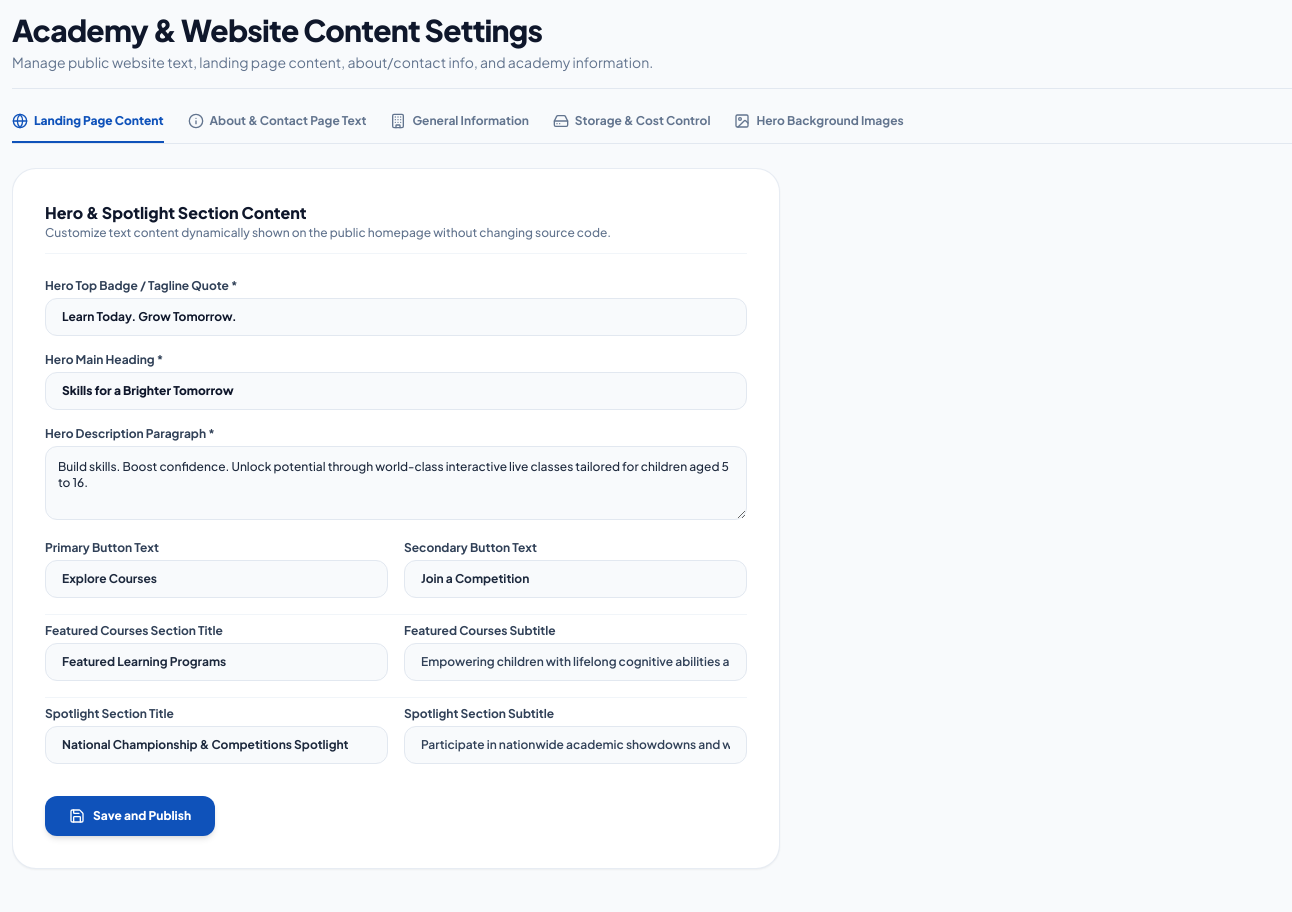
Test: AdminSettingsPage - Storage & Cost Control (Part C) › renders Storage & Cost Control tab and displays metrics
Click the button "Storage & Cost Control": (632, 128) top-left (553, 113), bottom-right (710, 143)
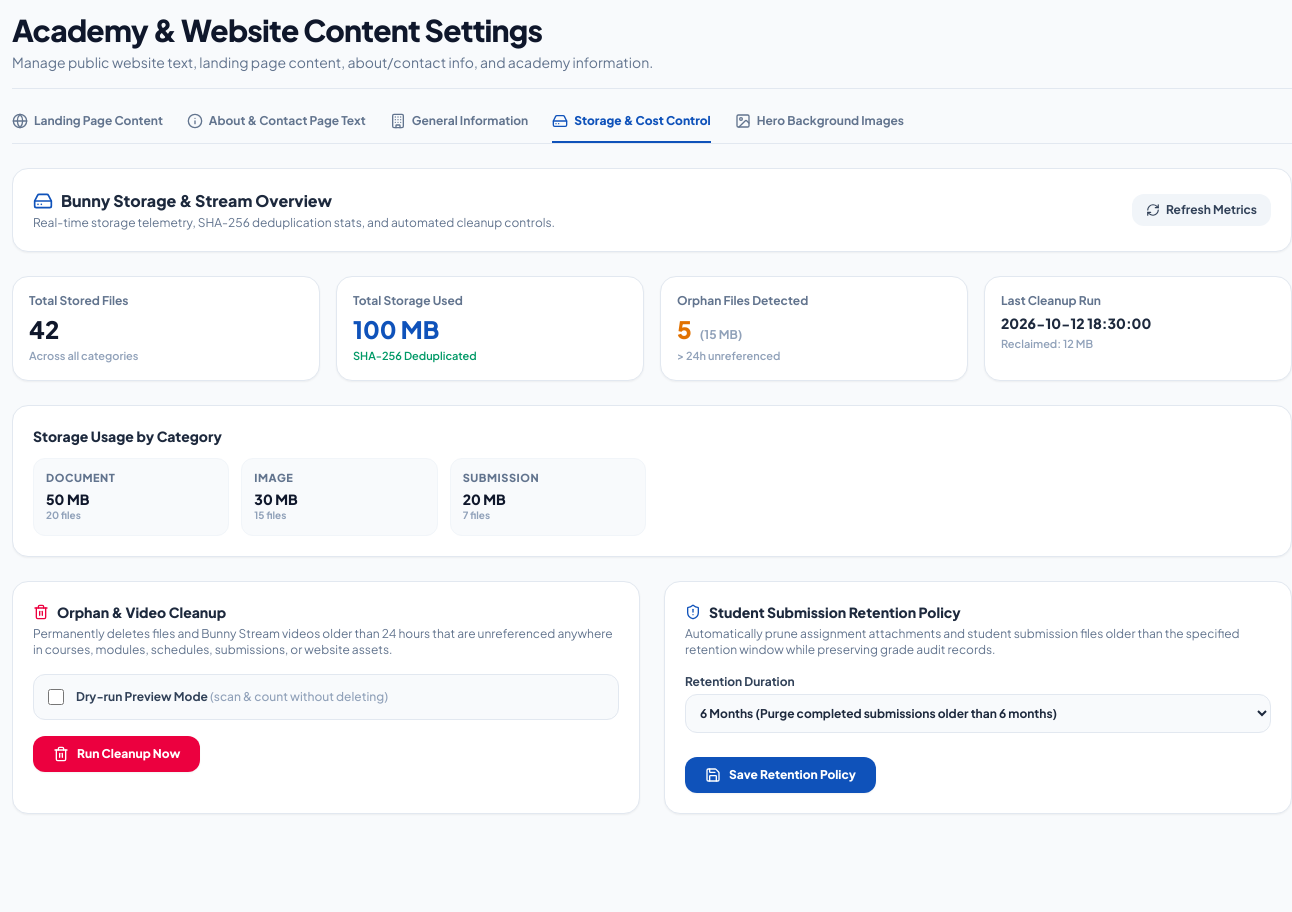
Now the text "Bunny Storage & Stream Overview" is shown, box top-left (61, 189), bottom-right (332, 213)
Now the text "Total Stored Files" is shown, box top-left (29, 293), bottom-right (128, 308)
Now the text "42" is shown, box top-left (29, 314), bottom-right (59, 344)
